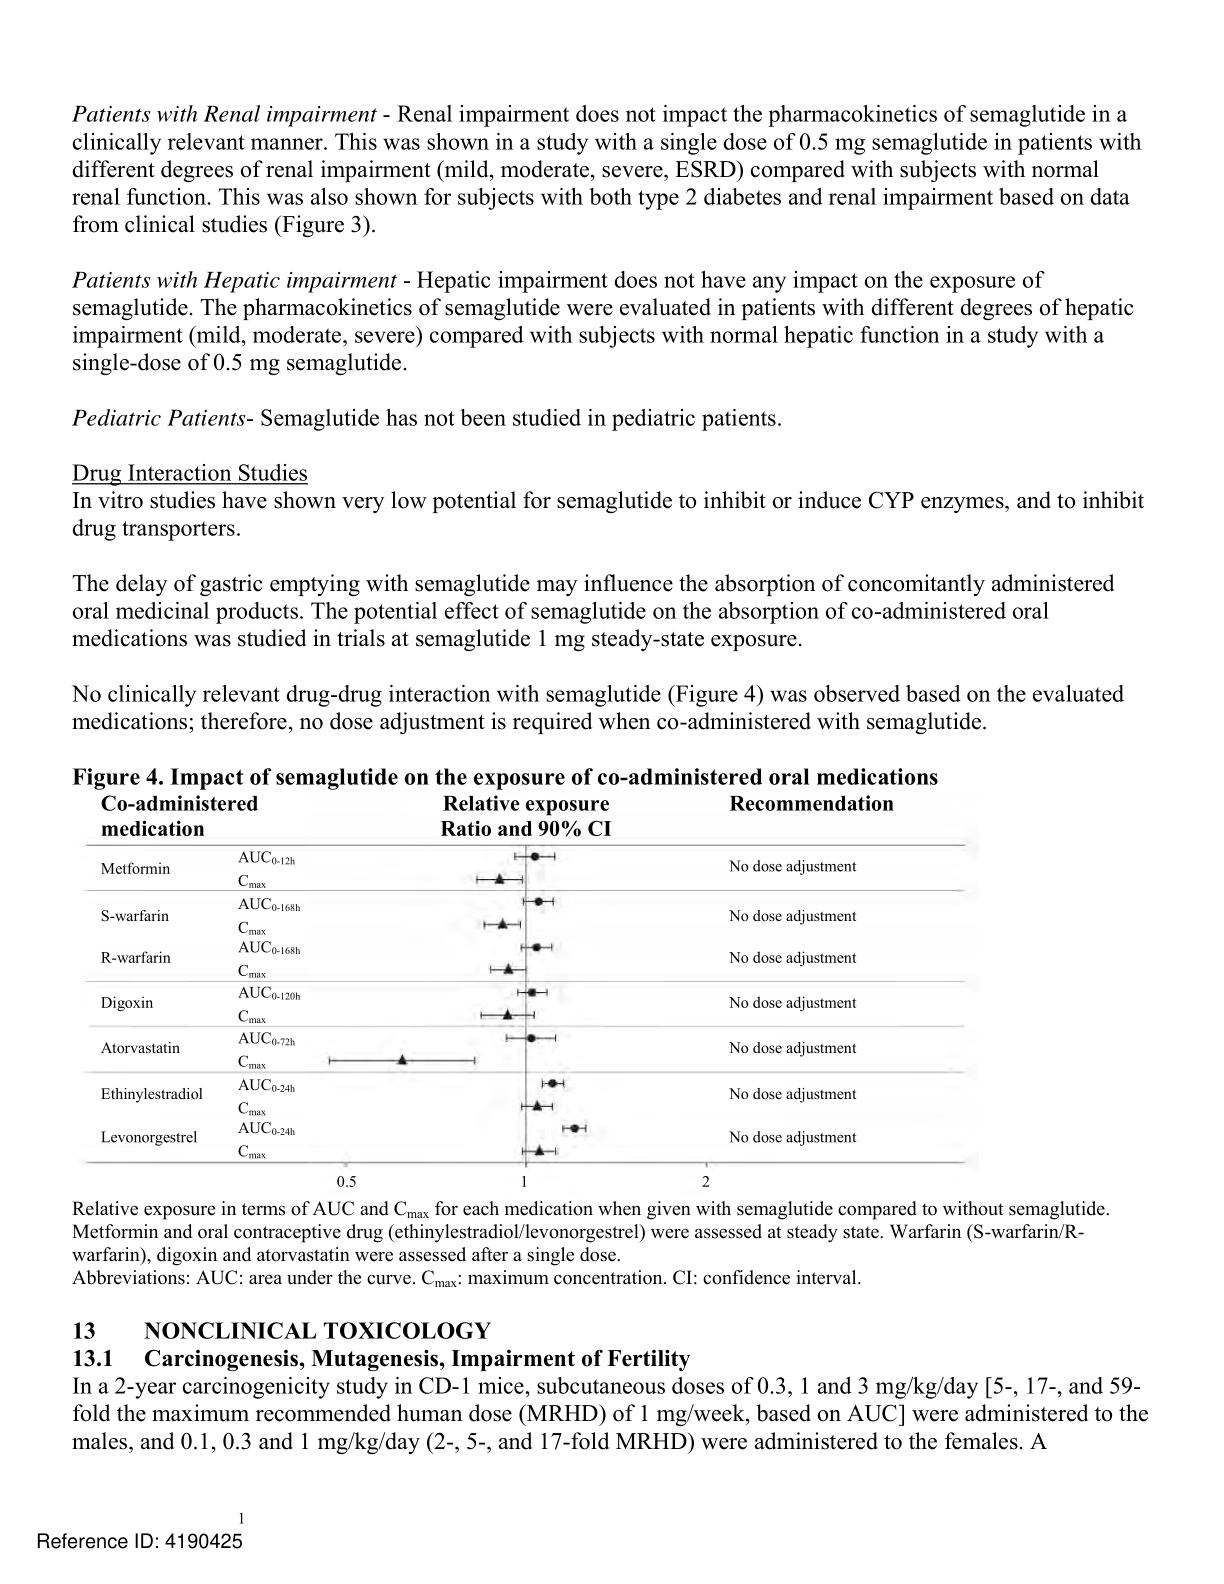partial_lined_merged_cells: (84, 792, 967, 1191)
